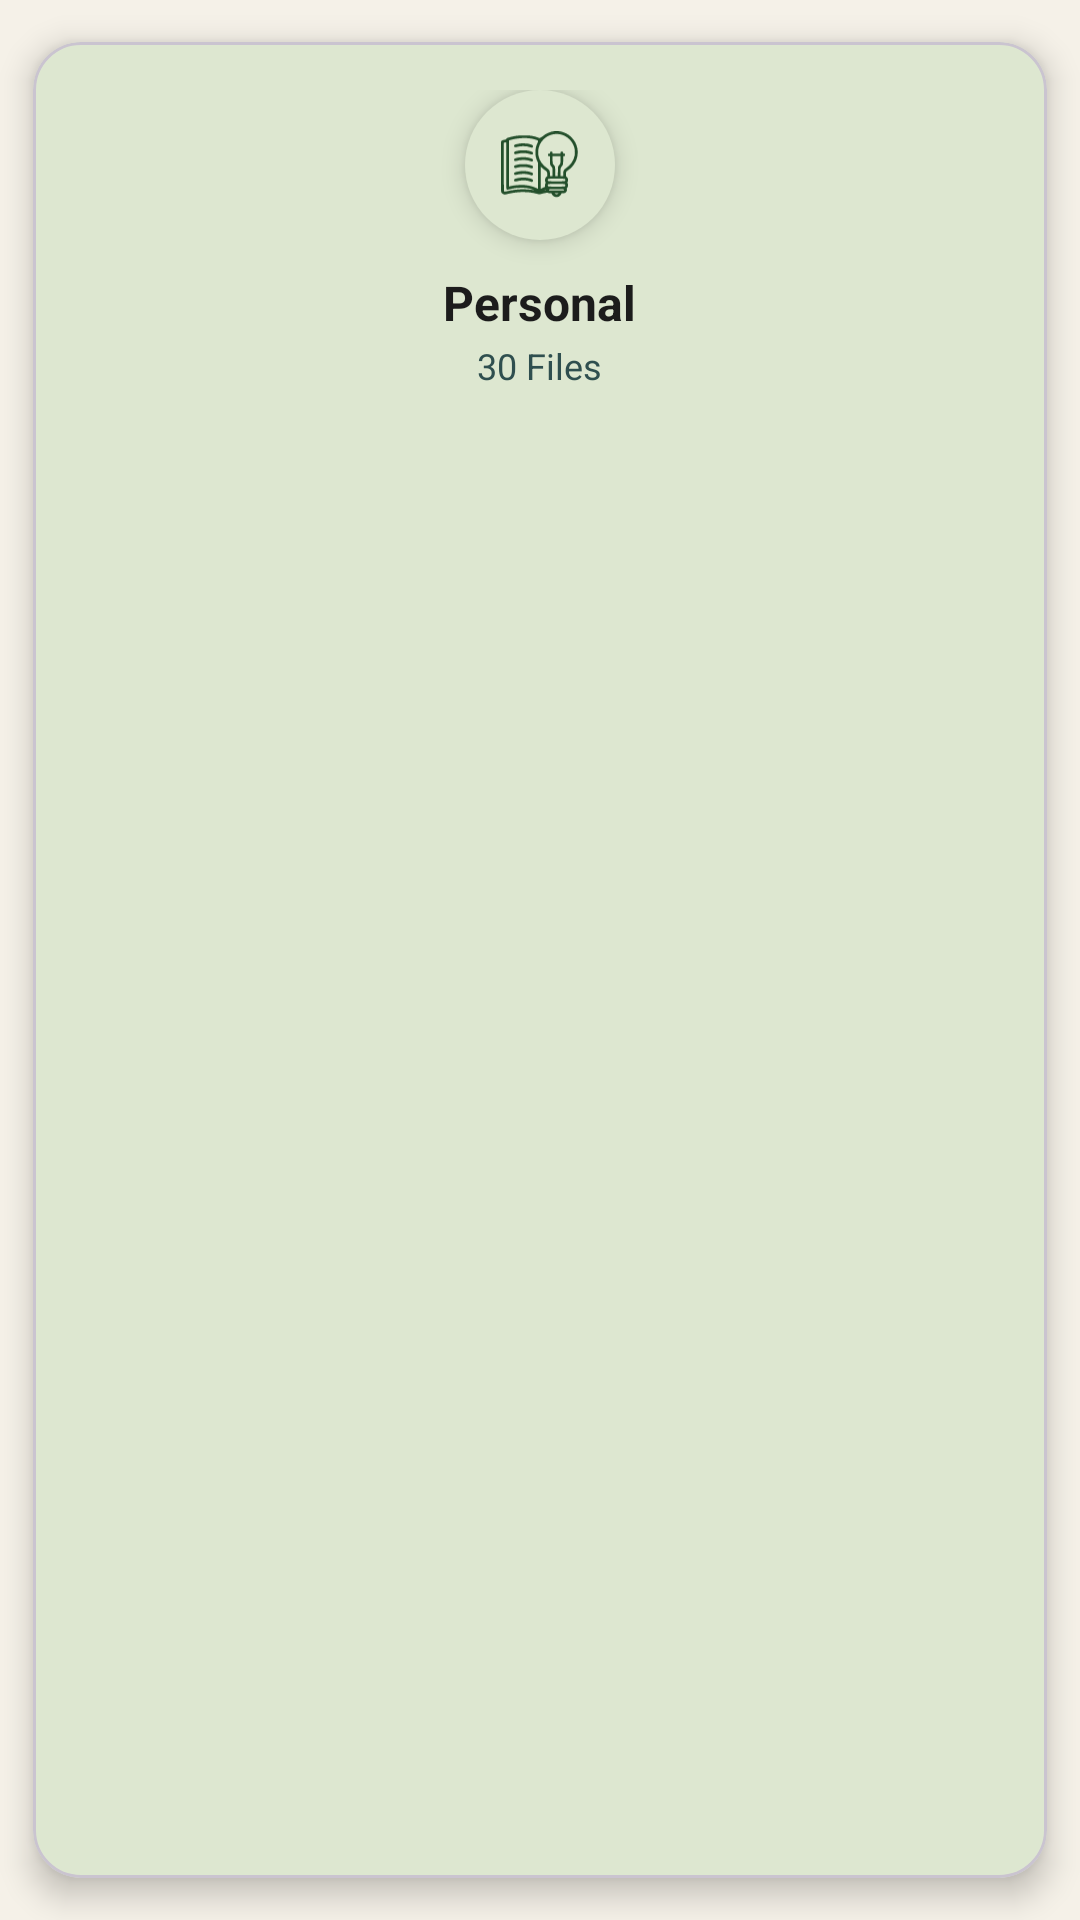

Named icons in this screenshot (1080 × 1920) and their centers, (x,y):
academic: (539,164)
